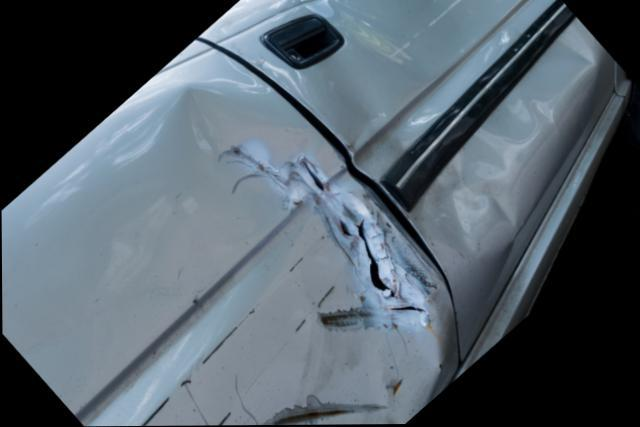crack: (355, 218, 395, 298), (300, 158, 325, 192), (337, 218, 353, 238), (387, 304, 428, 311)
dent: (295, 0, 594, 252), (83, 88, 337, 333)
scratch: (254, 400, 385, 426), (315, 308, 364, 327)
